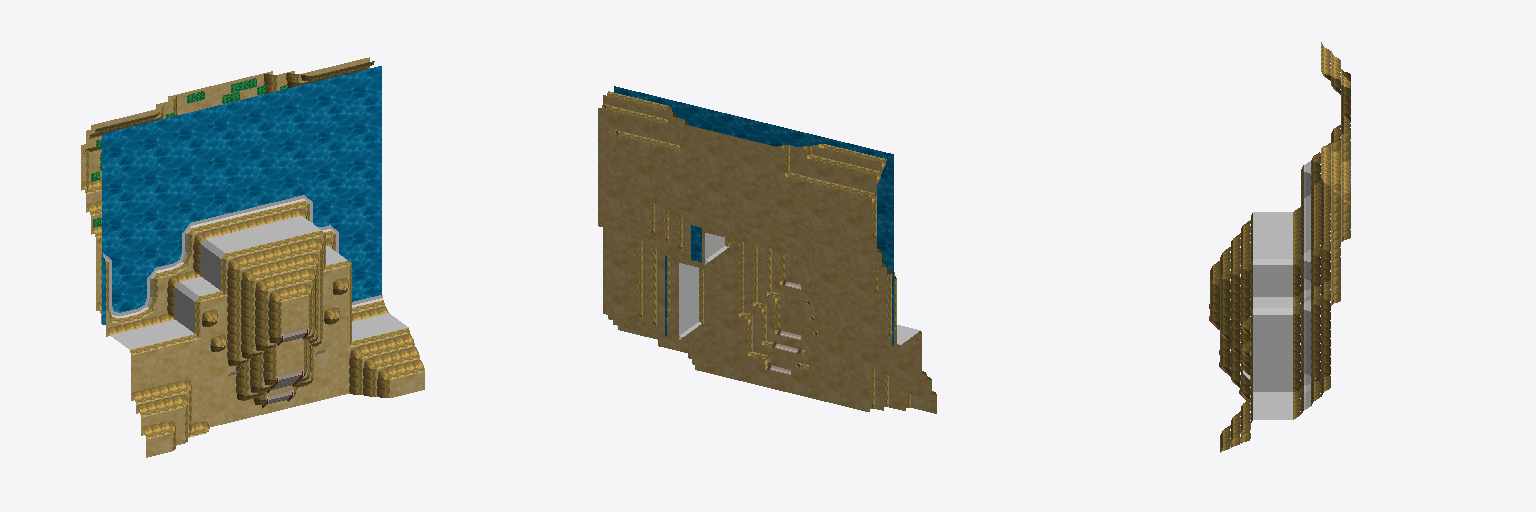
3 renders of one model, left to right at view 1: azimuth 30°, elevation 25°; view 2: azimuth 150°, elevation 25°; view 3: azimuth 270°, elevation 25°, orthographic.
Parts seen in each view (by area): view 1: map; view 2: map; view 3: map.
Part boxes in pixels (bbox=[...]): map: bbox=[81, 57, 424, 457]; map: bbox=[598, 86, 936, 413]; map: bbox=[1209, 42, 1350, 452].
Bounding box in the file's own units: 32 × 32 × 14.18.
12 materials, 8 textured.